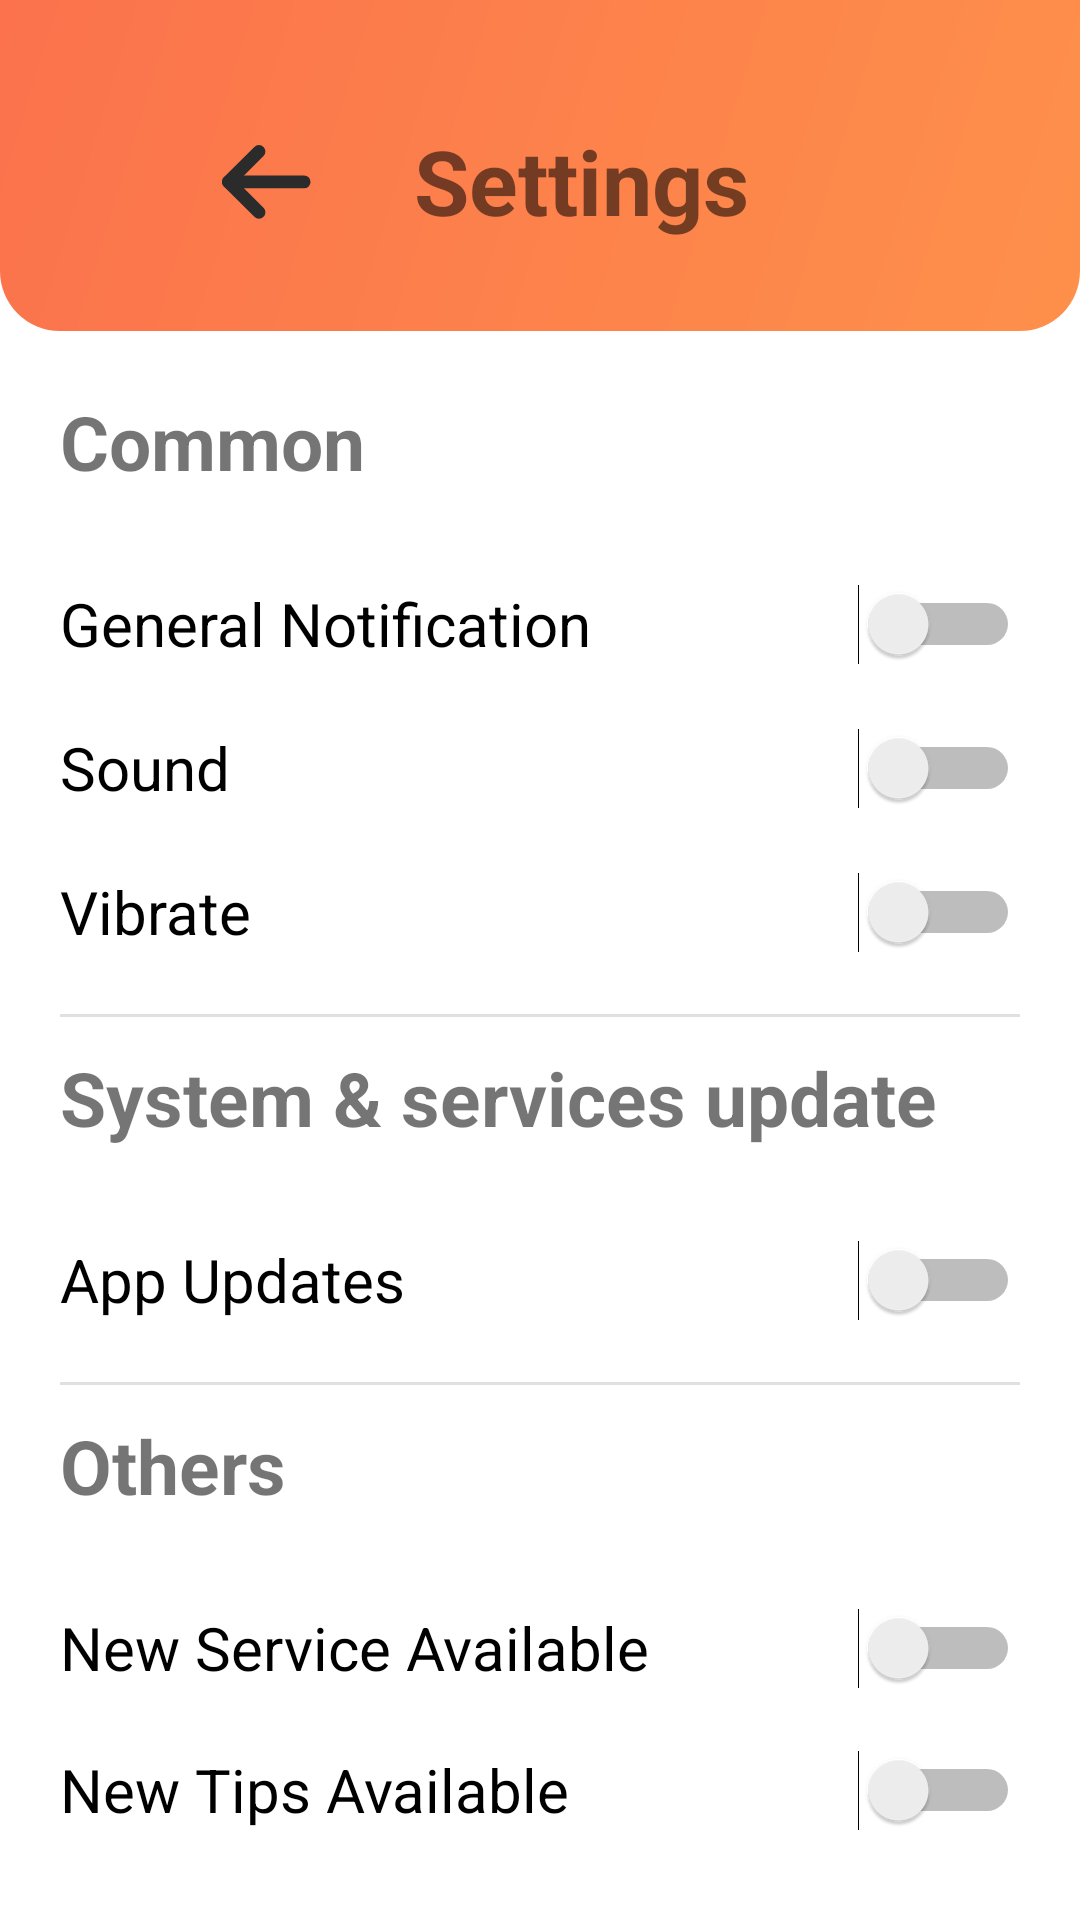

Screen size 1080px×1920px. Icon name, then its box in pixels as (x1, y1, x2, y2):
return: (222, 145, 311, 219)
